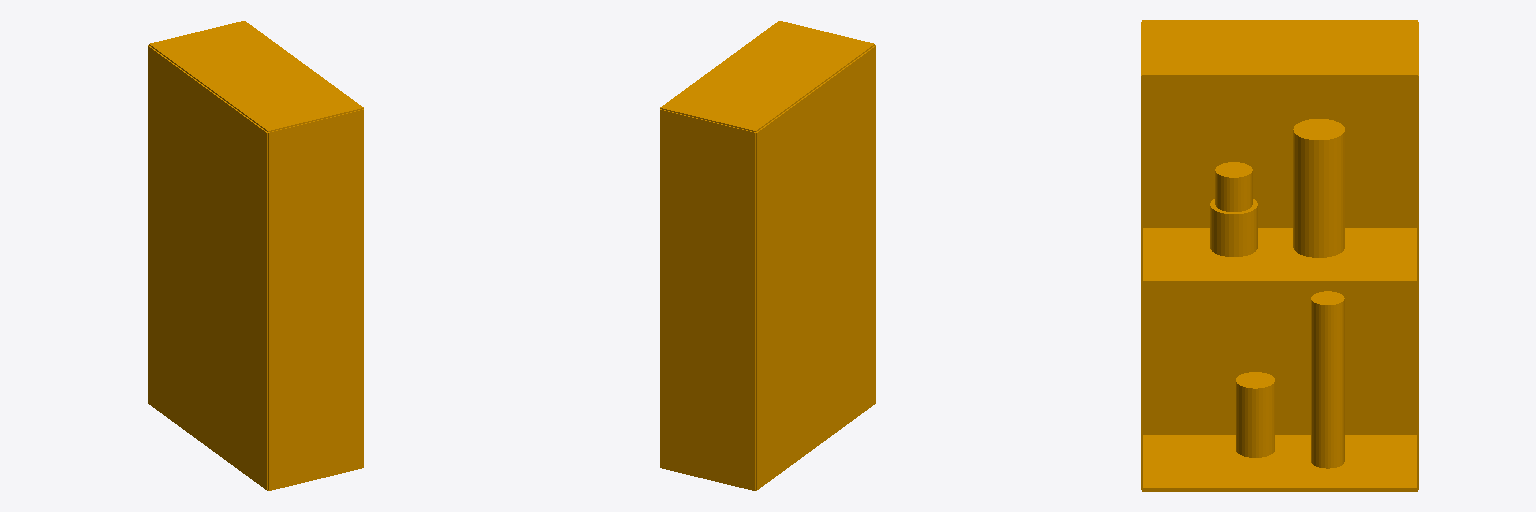
The robot description file, URDF, robot "syn_can_cabinet_1714":
<?xml version="1.0" ?>
<robot name="syn_can_cabinet_1714">
    <link concave="yes" name="base_link">
        <inertial>
            <origin rpy="0 0 0" xyz="0 0 0"/>
            <mass value="0.0"/>
            <inertia ixx="1e-08" ixy="0" ixz="0" iyy="1e-08" iyz="0" izz="1e-08"/>
        </inertial>
        <visual>
            <origin xyz="0 0 0" rpy="0 0 0" />
            <geometry>
                <mesh filename="syn_can_cabinet_1714.obj" scale="1.000000 1.000000 1.000000"/>
            </geometry>         
        </visual>

        <collision concave="yes">
            <origin xyz="0 0 0" rpy="0 0 0"/>
            <geometry>
                <mesh filename="syn_can_cabinet_1714.obj" scale="1.000000 1.000000 1.000000"/>
            </geometry>
        </collision>
    </link>
</robot>
    

--- What the picture shows (computed from the rendered views, not written in the file) ---
Views: 3 orthographic renders of the robot side by side, from view 1: azimuth 30°, elevation 25°; view 2: azimuth 150°, elevation 25°; view 3: azimuth 270°, elevation 25°.
Model syn_can_cabinet_1714 with 1 links and 0 joints (none), rooted at base_link, posed all joints at 0.
Links seen in each view (by area): view 1: base_link; view 2: base_link; view 3: base_link.
Link boxes in pixels (x1,y1,x2,y2): base_link: (148,21,363,490); base_link: (660,21,875,490); base_link: (1141,20,1418,491).
Size in the robot's own frame: 0.1599 by 0.3428 by 0.5669 metres.
Meshes: 1 distinct files referenced, 1 mesh visuals loaded (1 OBJ).
